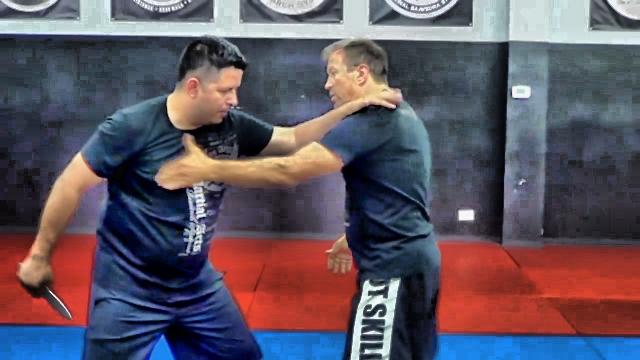knife: (11, 258, 74, 322)
